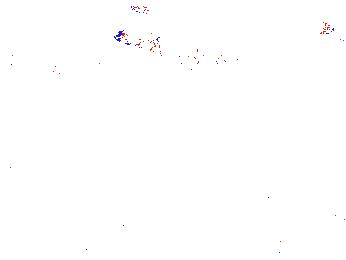X-ray fish: (6, 44, 39, 68)
glassfish: (224, 99, 328, 163)
red belly glassfish: (129, 1, 168, 16)
redtail glassfish: (45, 56, 113, 88), (163, 44, 226, 74), (111, 26, 164, 57)
